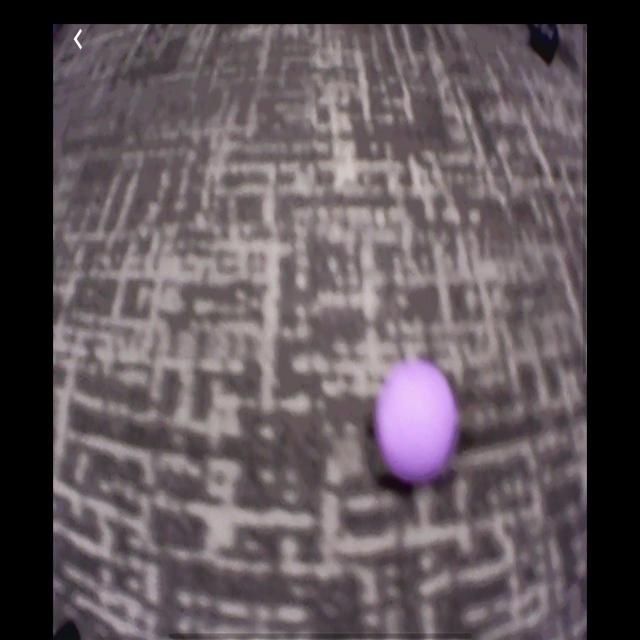ball: (374, 358, 462, 486)
